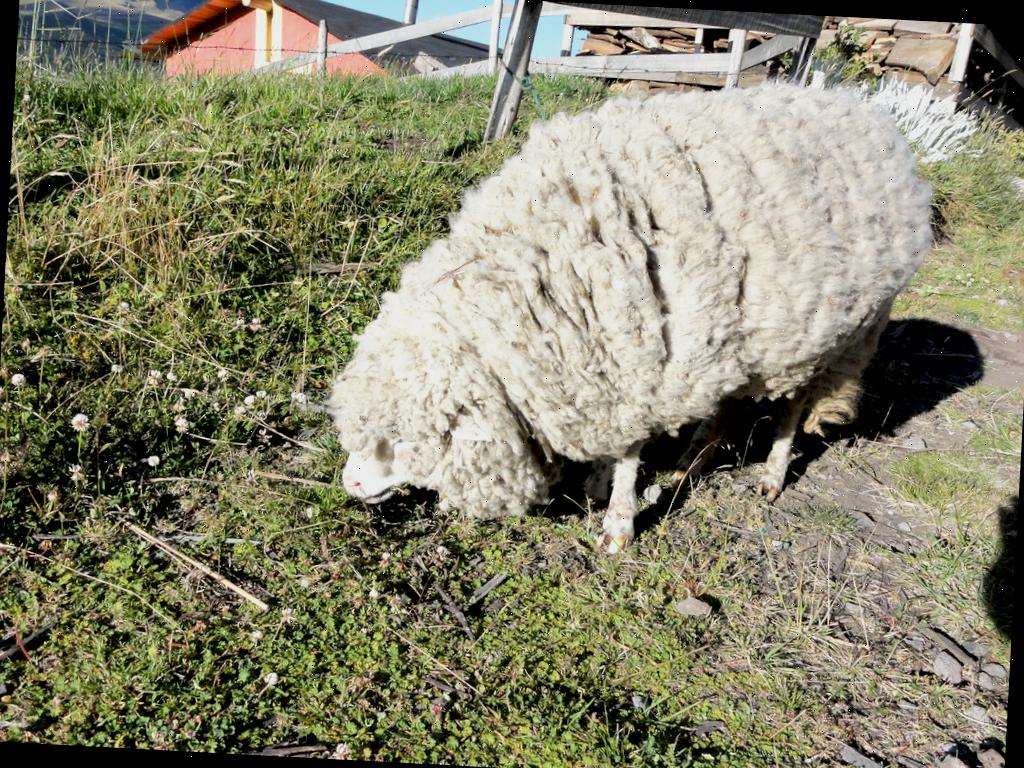Sheep: (335, 59, 943, 570)
